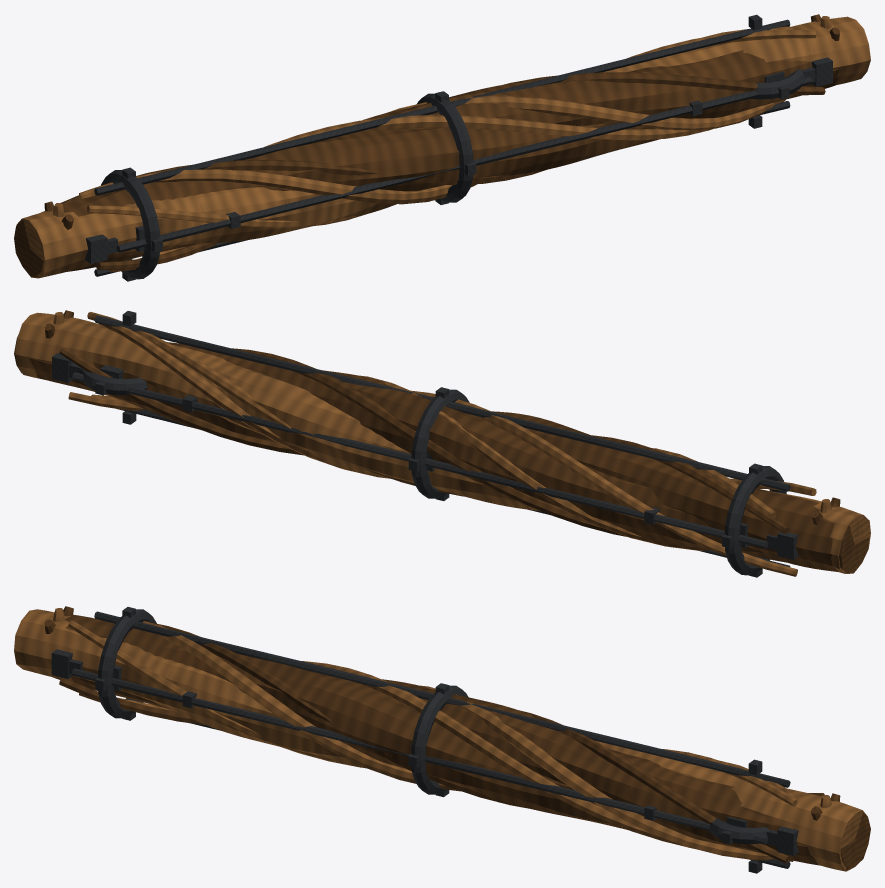
The model's file is rootforged-iron-banded-worldroot-beam-8m.glb.
The picture shows the model from 3 angles, top to bottom: view 1: azimuth 30°, elevation 25°; view 2: azimuth 150°, elevation 25°; view 3: azimuth 330°, elevation 25°; orthographic projection.
Parts seen in each view (by area): view 1: braided-root-1, braided-root-0, braided-root-2, forged-longitudinal-strap-1, forged-longitudinal-strap-2, surface-root-vein-0, bark-ridge-3, surface-root-vein-1, bark-ridge-2, bark-ridge-1, bark-ridge-0, iron-collar-0 (+3 smaller); view 2: braided-root-1, braided-root-2, braided-root-0, forged-longitudinal-strap-1, forged-longitudinal-strap-0, bark-ridge-3, bark-ridge-0, bark-ridge-2, surface-root-vein-0, surface-root-vein-1, bark-ridge-1, iron-collar-0 (+3 smaller); view 3: braided-root-1, braided-root-0, braided-root-2, forged-longitudinal-strap-1, forged-longitudinal-strap-2, surface-root-vein-1, surface-root-vein-0, bark-ridge-3, bark-ridge-2, bark-ridge-1, bark-ridge-0, iron-collar-0 (+4 smaller).
Boxes of the visible parts, x1,y1,x2,y2 form: braided-root-1: (16,16,870,278); braided-root-0: (14,123,658,276); braided-root-2: (22,50,839,275); forged-longitudinal-strap-1: (94,19,790,195); forged-longitudinal-strap-2: (116,76,812,252); surface-root-vein-0: (79,26,793,204); bark-ridge-3: (265,115,713,146); surface-root-vein-1: (109,95,785,272); bark-ridge-2: (96,72,825,270); bark-ridge-1: (87,29,816,227); bark-ridge-0: (60,159,546,204); iron-collar-0: (101,170,160,279); braided-root-1: (15,312,870,573); braided-root-2: (167,342,868,571); braided-root-0: (14,335,854,572); forged-longitudinal-strap-1: (94,315,790,491); forged-longitudinal-strap-0: (72,372,768,548); bark-ridge-3: (68,390,797,576); bark-ridge-0: (59,347,788,533); bark-ridge-2: (232,348,626,536); surface-root-vein-0: (98,316,776,518); surface-root-vein-1: (91,375,710,550); bark-ridge-1: (87,312,816,496); iron-collar-0: (724,466,786,575); braided-root-1: (14,609,867,871); braided-root-0: (64,614,870,870); braided-root-2: (53,676,860,868); forged-longitudinal-strap-1: (94,611,790,787); forged-longitudinal-strap-2: (72,668,768,844); surface-root-vein-1: (79,685,793,861); surface-root-vein-0: (120,617,786,792); bark-ridge-3: (301,661,692,848); bark-ridge-2: (59,677,788,863); bark-ridge-1: (68,620,797,806); bark-ridge-0: (151,622,824,808); iron-collar-0: (98,609,156,718).
Bounding box in the file's own units: 8 × 1 × 1.
Materials: 3 (3 with a texture image).
